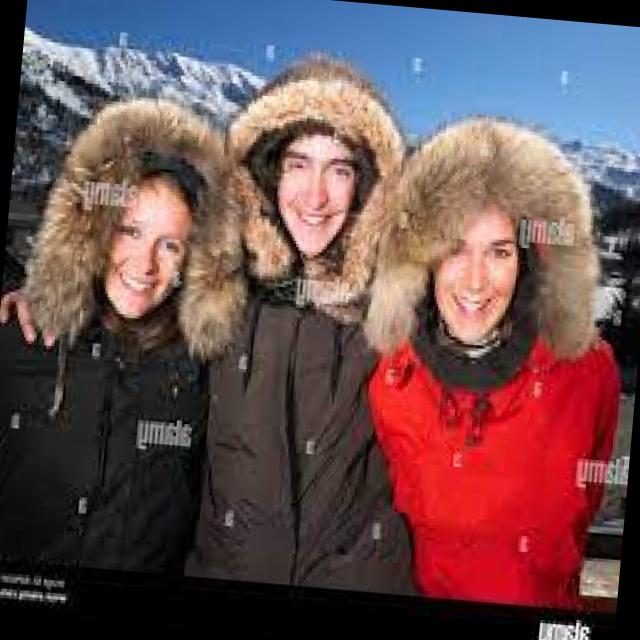Jacket: (347, 286, 639, 616), (179, 245, 441, 598), (0, 244, 246, 584)
